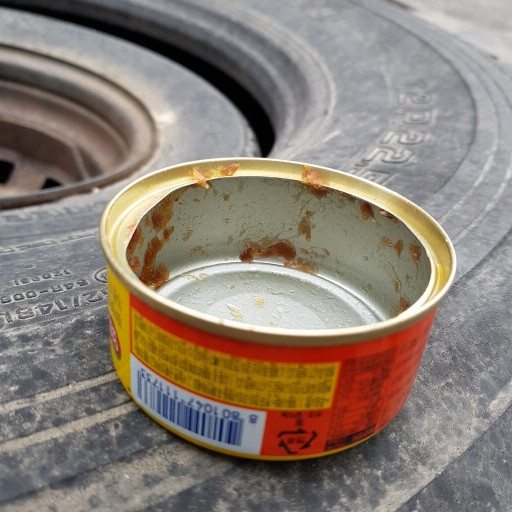Metal_1: (99, 157, 457, 461)
